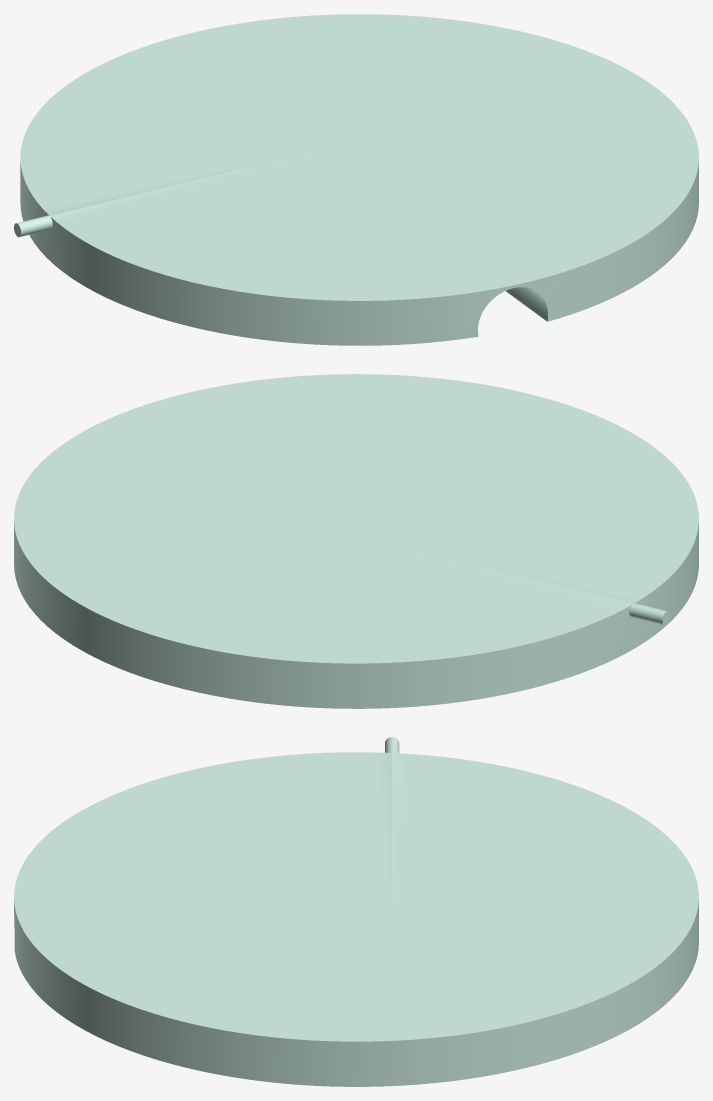
3 renders of one model, top to bottom at view 1: azimuth 30°, elevation 25°; view 2: azimuth 150°, elevation 25°; view 3: azimuth 270°, elevation 25°, orthographic.
Parts seen in each view (by area): view 1: Renderer Node; view 2: Renderer Node; view 3: Renderer Node.
Part boxes in pixels (<box>): Renderer Node: <box>14,14,698,345</box>; Renderer Node: <box>14,374,698,708</box>; Renderer Node: <box>14,737,698,1086</box>.
Size of the model in its own units: 0.789 by 0.0548 by 0.75.
